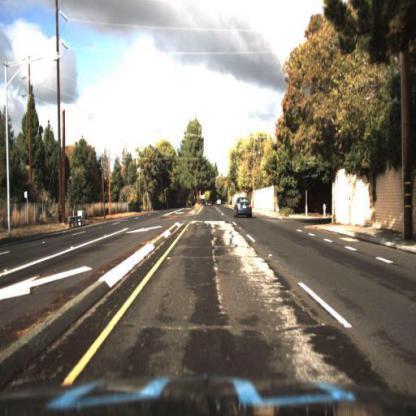car: (235, 197, 256, 220)
